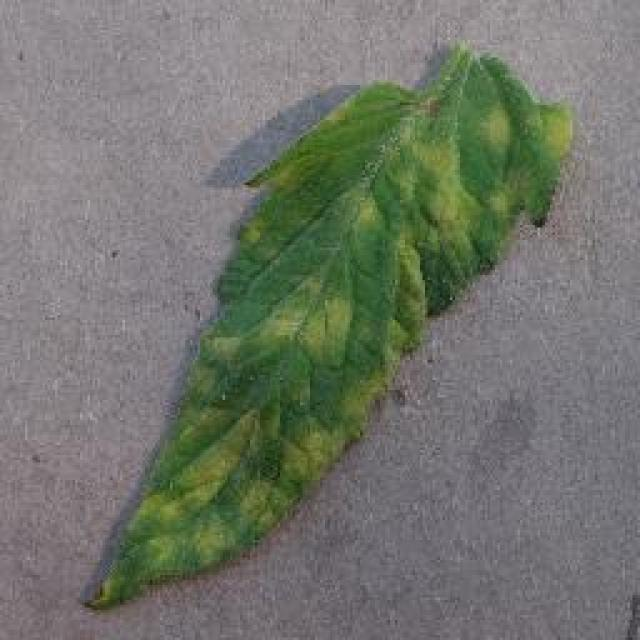Tomato___Leaf_Mold: (80, 42, 578, 610)
